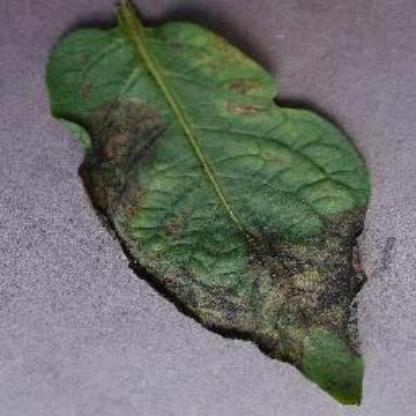Late-Blight: (31, 11, 374, 411)
